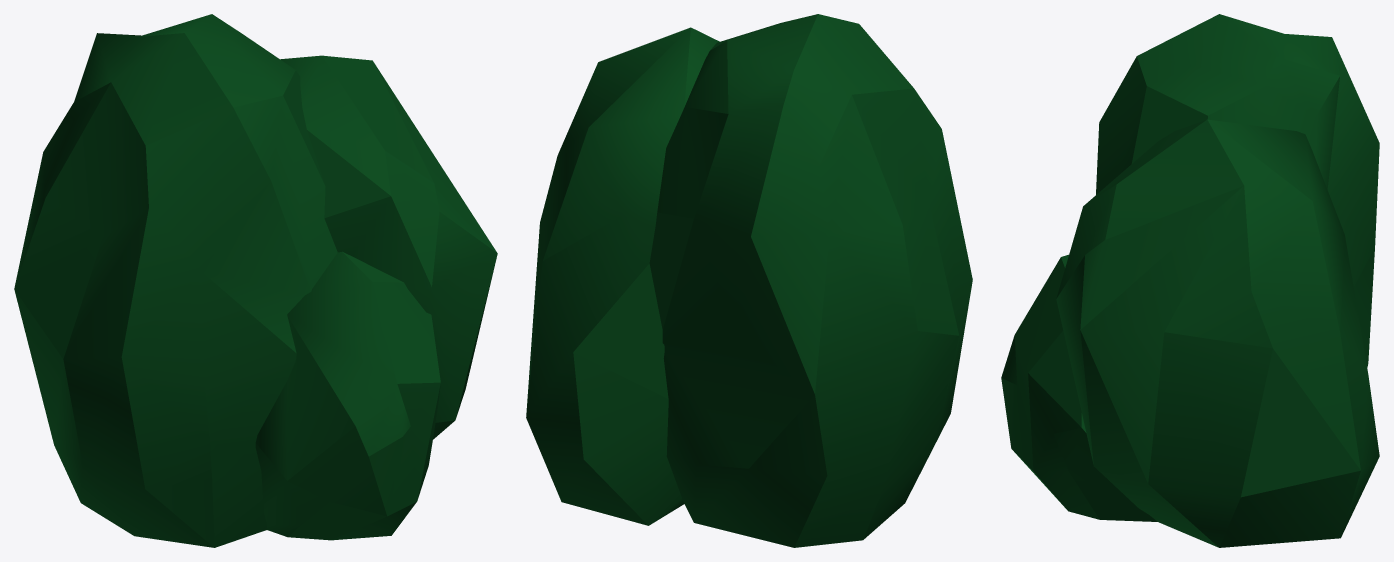
The model's file is Bush_2.fbx.
3 views of the same model, side by side, from view 1: azimuth 30°, elevation 25°; view 2: azimuth 150°, elevation 25°; view 3: azimuth 270°, elevation 25° (orthographic). The views are drawn at different scales.
Visible parts, largest first — view 1: Bush_2; view 2: Bush_2; view 3: Bush_2.
Boxes of the visible parts, x1,y1,x2,y2 form: Bush_2: (14, 14, 497, 547); Bush_2: (526, 14, 972, 547); Bush_2: (1001, 14, 1379, 547).
Bounding box in the file's own units: 47.13 × 54.95 × 42.8.
